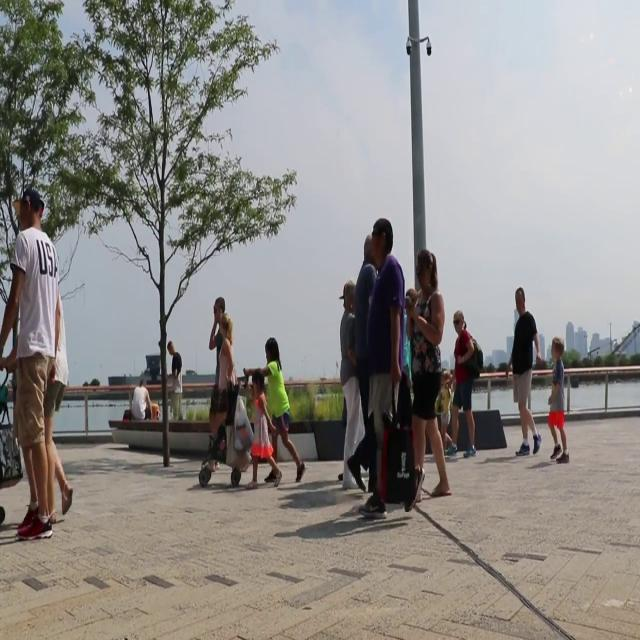normal: (2, 189, 62, 543), (406, 247, 454, 511), (202, 293, 248, 487), (265, 327, 304, 494), (509, 280, 543, 460), (450, 302, 484, 468), (546, 326, 576, 472)
